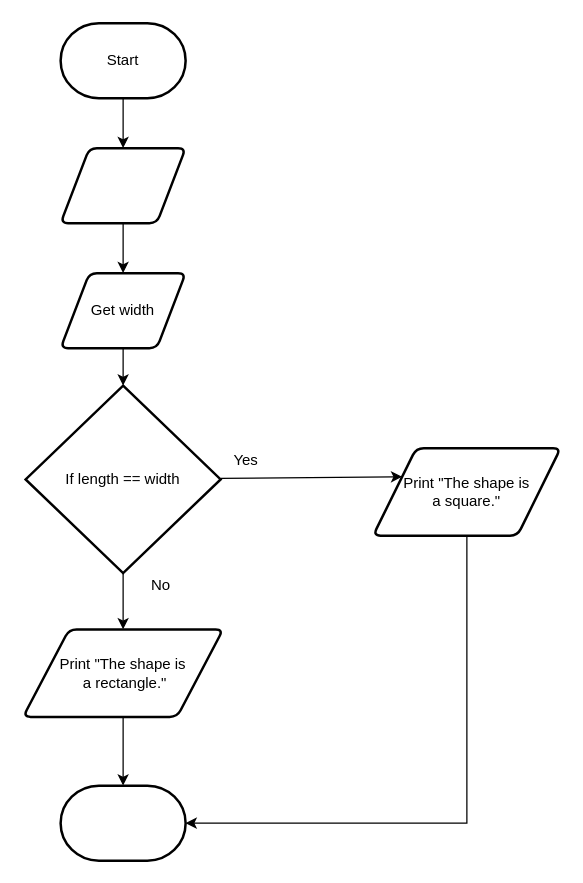
This 583x883 diagram has some shape labels left out. Each missing label, with the box of its shape:
Get length: (59, 146, 186, 224)
Stop: (59, 784, 186, 861)
